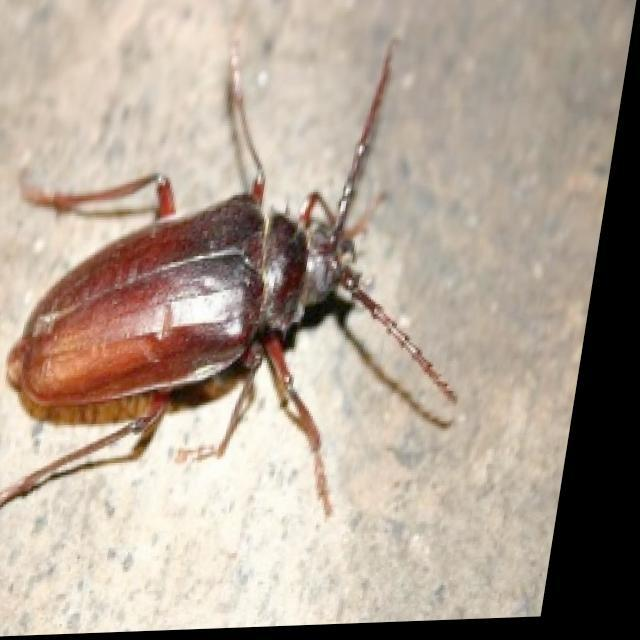cockroach: (1, 32, 462, 525), (4, 194, 279, 419)
